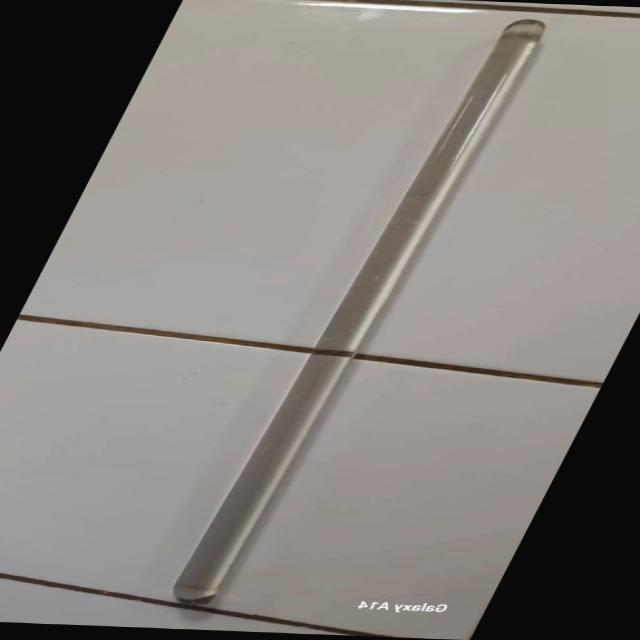Stirrer: (160, 14, 560, 617)
